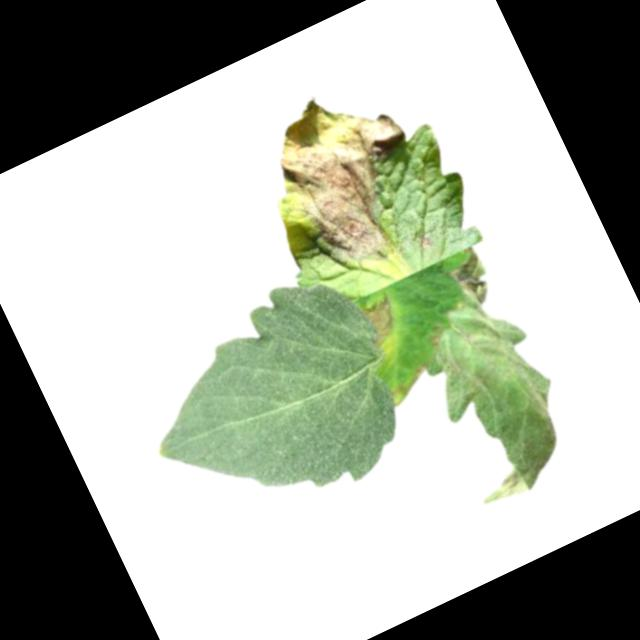Late_blight: (399, 267, 611, 513), (233, 65, 448, 290), (445, 244, 503, 310), (357, 296, 406, 351), (413, 227, 438, 253)
healthy: (115, 258, 430, 554)
